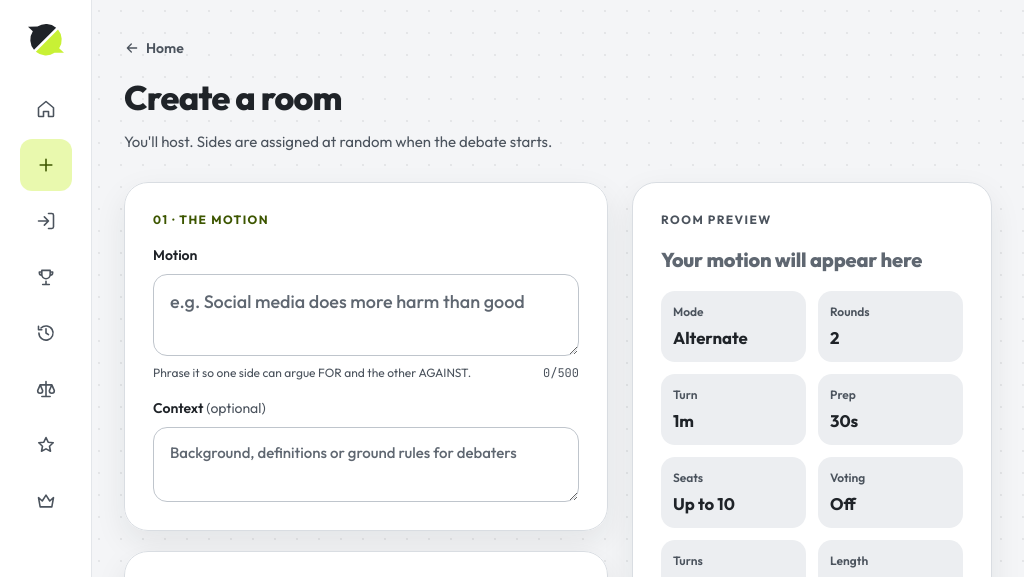
Test: CreateRoom › topic character counter › mirrors the motion in the preview
Type "Cats beat dogs" into the text box with placeholder "e.g. Social media does more harm than good". click: coordinates (366, 315)
box: 153,274 -> 579,356
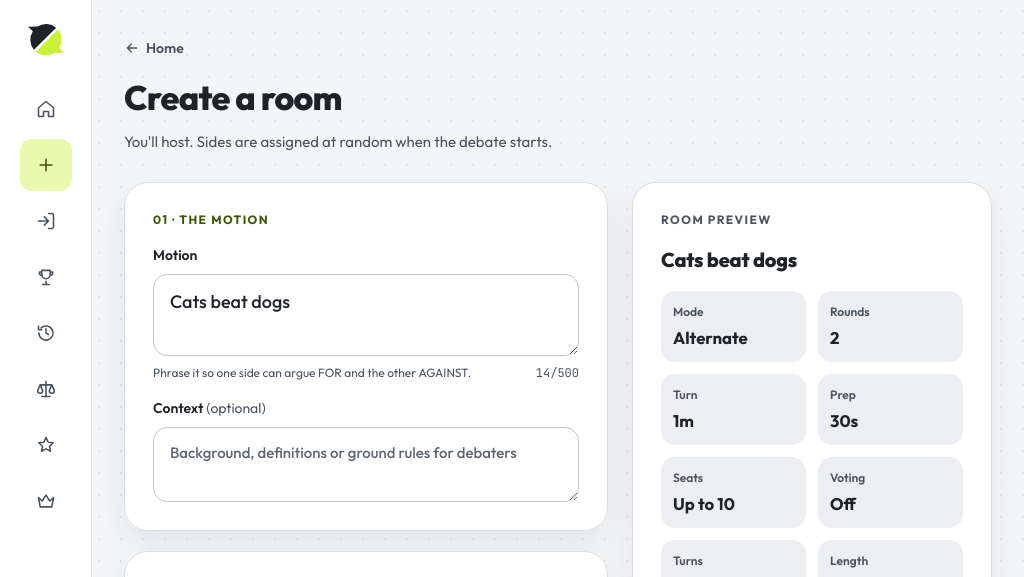
Expected: the text "Cats beat dogs" is shown, 661,246 -> 797,272
